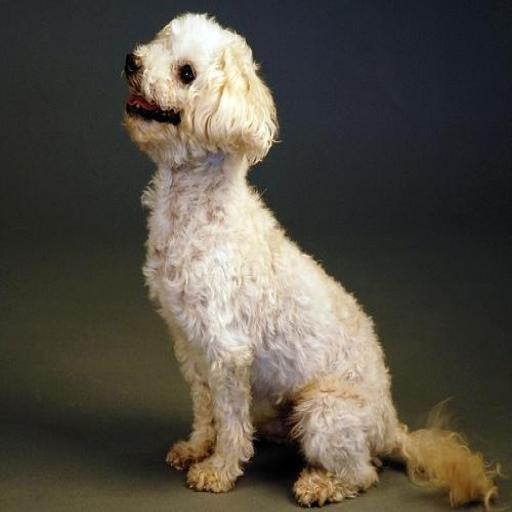dog_face: (121, 13, 262, 161)
